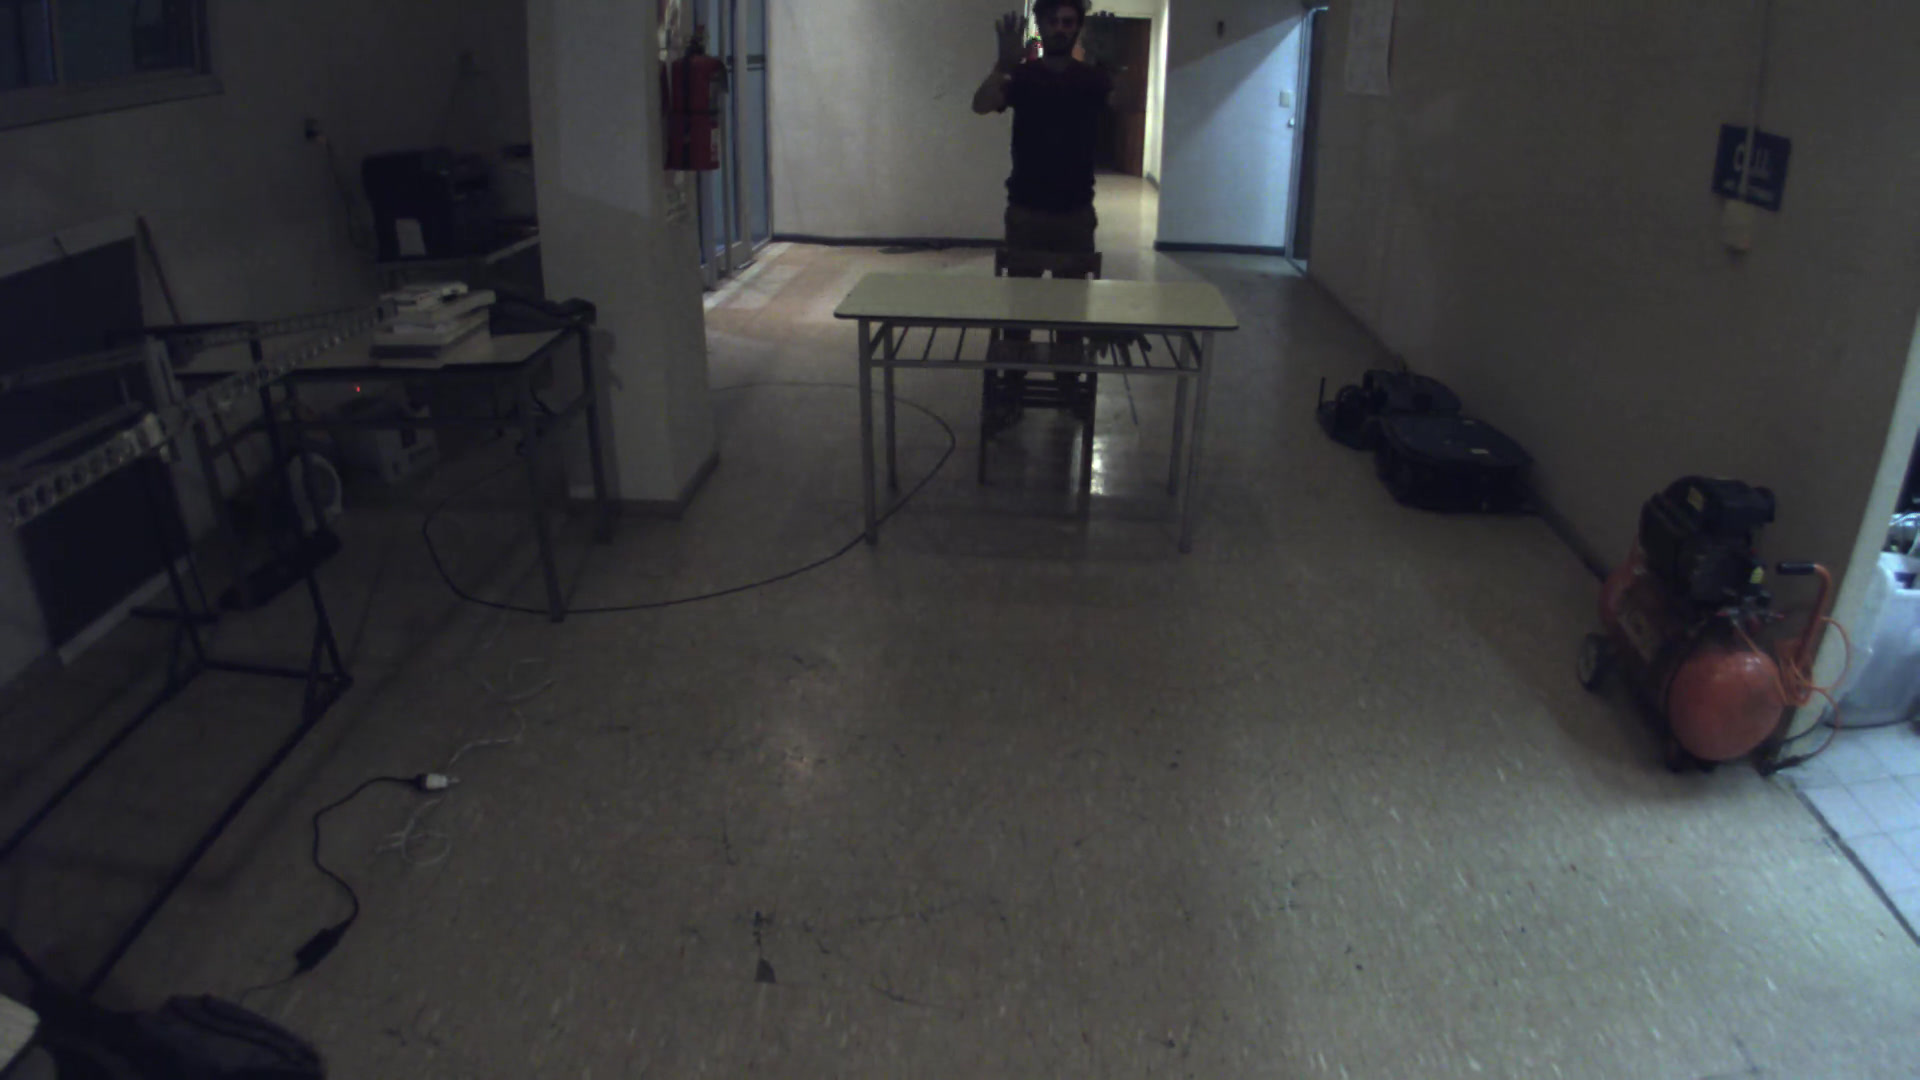hand: (1073, 9, 1142, 80), (982, 9, 1042, 78)
